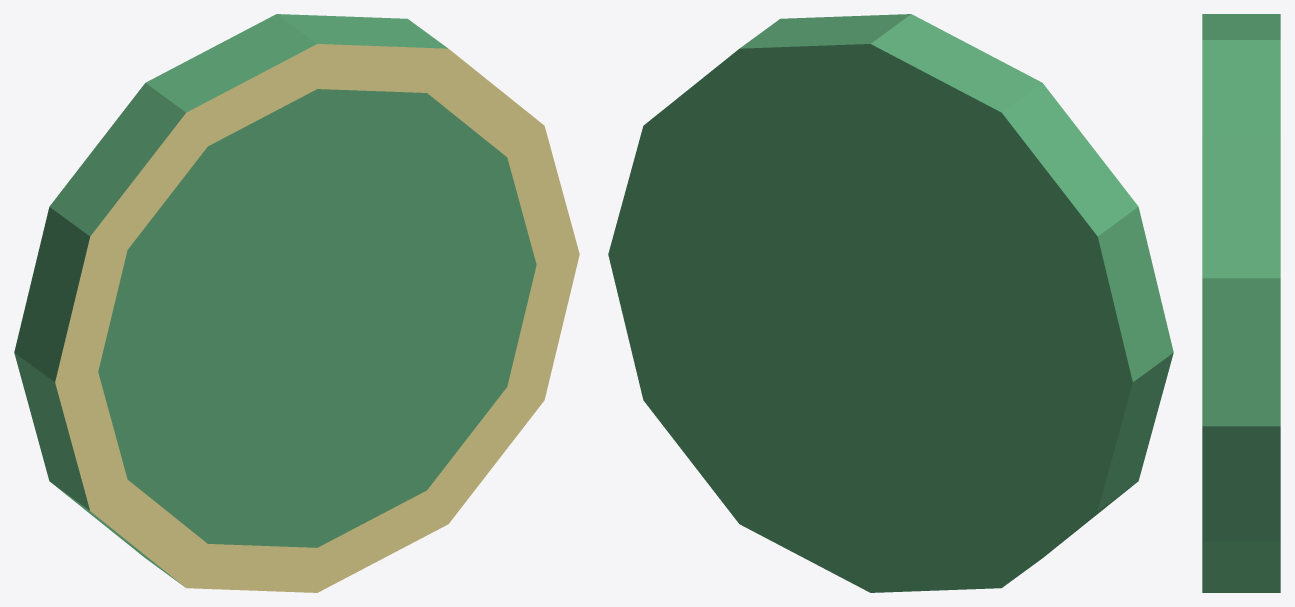
File: sign_green.glb
3 renders of one model, left to right at view 1: azimuth 30°, elevation 25°; view 2: azimuth 150°, elevation 25°; view 3: azimuth 270°, elevation 25°, orthographic. The views are drawn at different scales.
Visible parts, largest first — view 1: Disc; view 2: Disc; view 3: Disc.
Boxes of the visible parts, x1=… form: Disc: x1=14, y1=14, x2=579, y2=592; Disc: x1=608, y1=14, x2=1173, y2=592; Disc: x1=1202, y1=14, x2=1280, y2=592.
Size of the model in its own units: 0.63 by 0.63 by 0.085.
